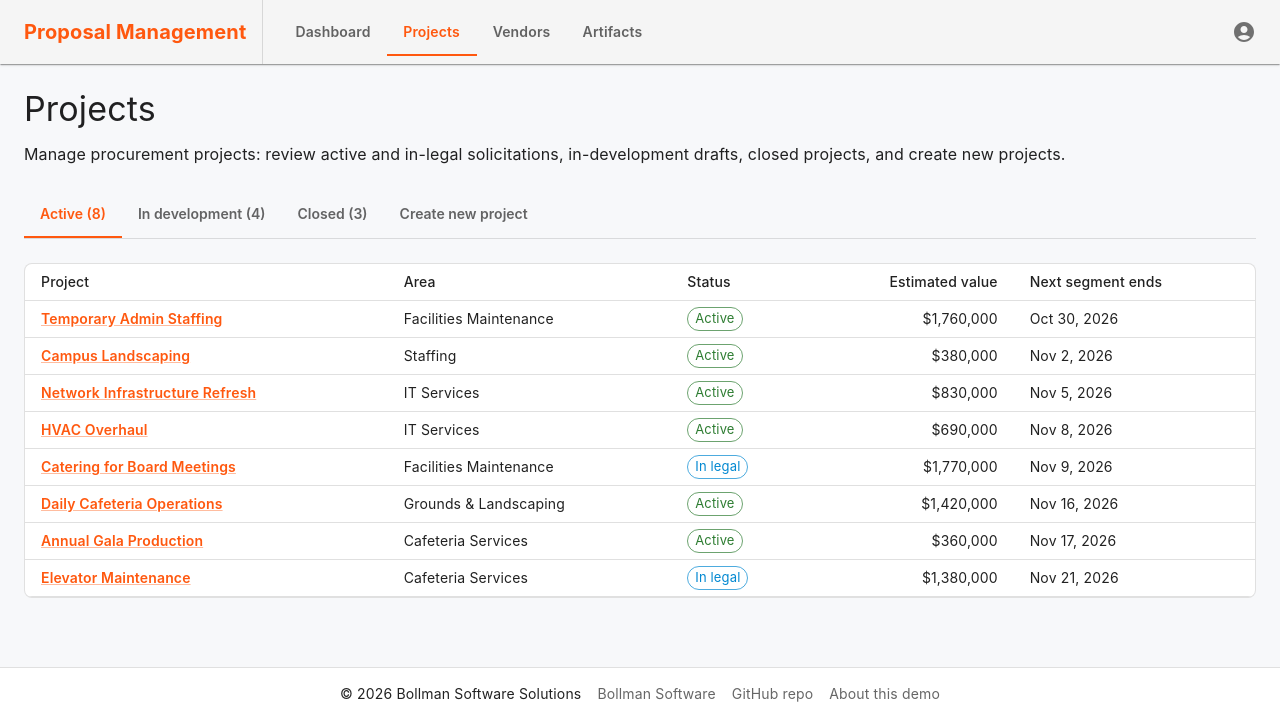
Test: Procurement features (Phase 3) › shows only Draft projects on the In development tab
Expected: the heading "Projects" is shown, top-left (24, 88), bottom-right (156, 129)
Click the tab "In development (4)" at [202, 214], box top-left (122, 190), bottom-right (282, 238)
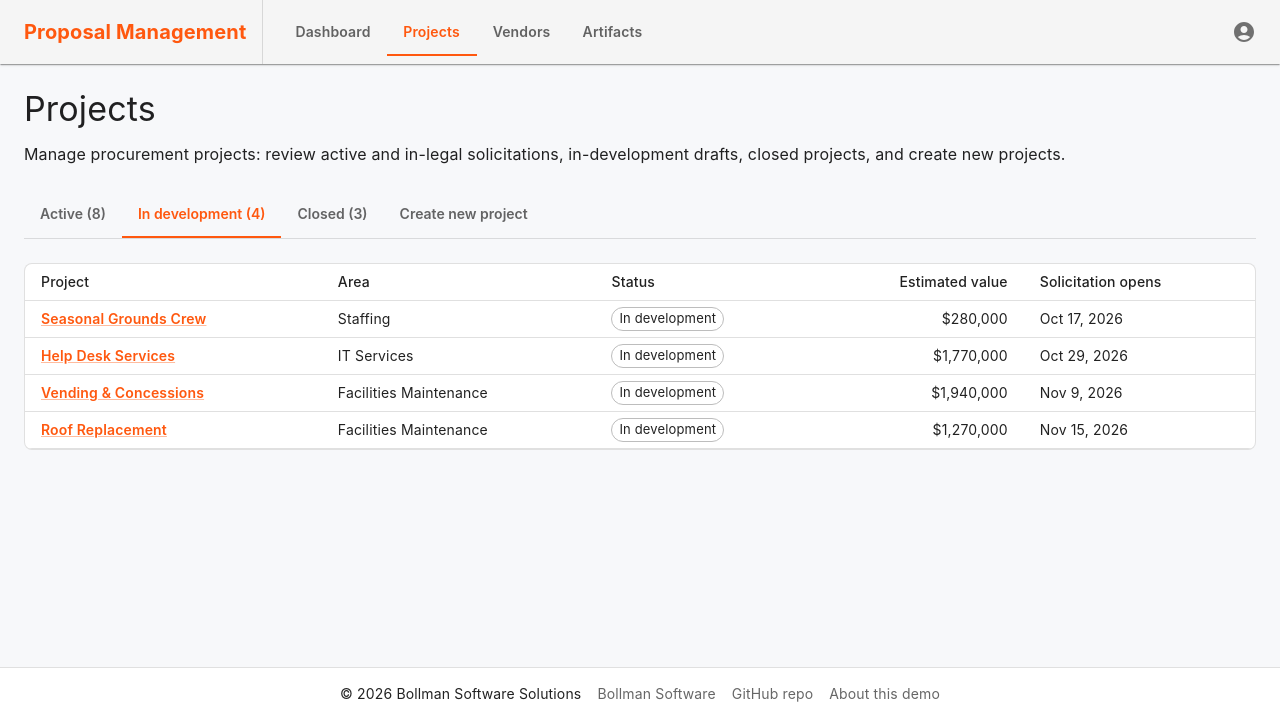
Expected: the link "Roof Replacement" is shown, top-left (41, 421), bottom-right (167, 438)
Expected: the link "HVAC Overhaul" is gone
